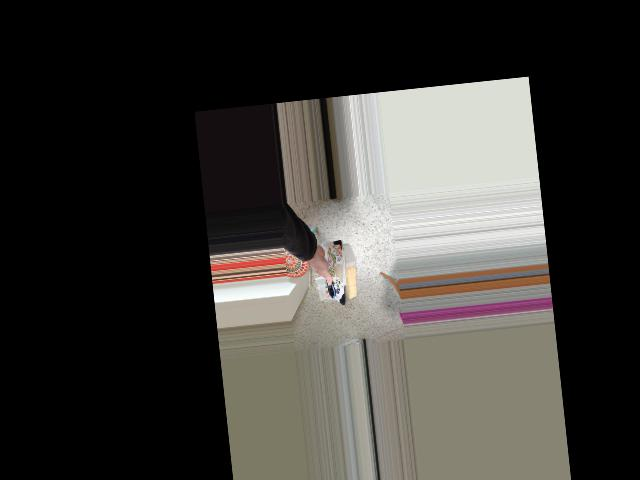cheese: (305, 229, 377, 310)
